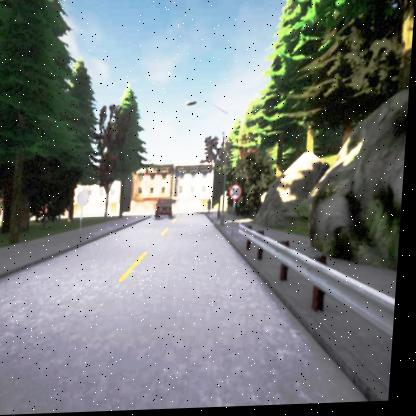vehicle: (157, 201, 176, 221)
